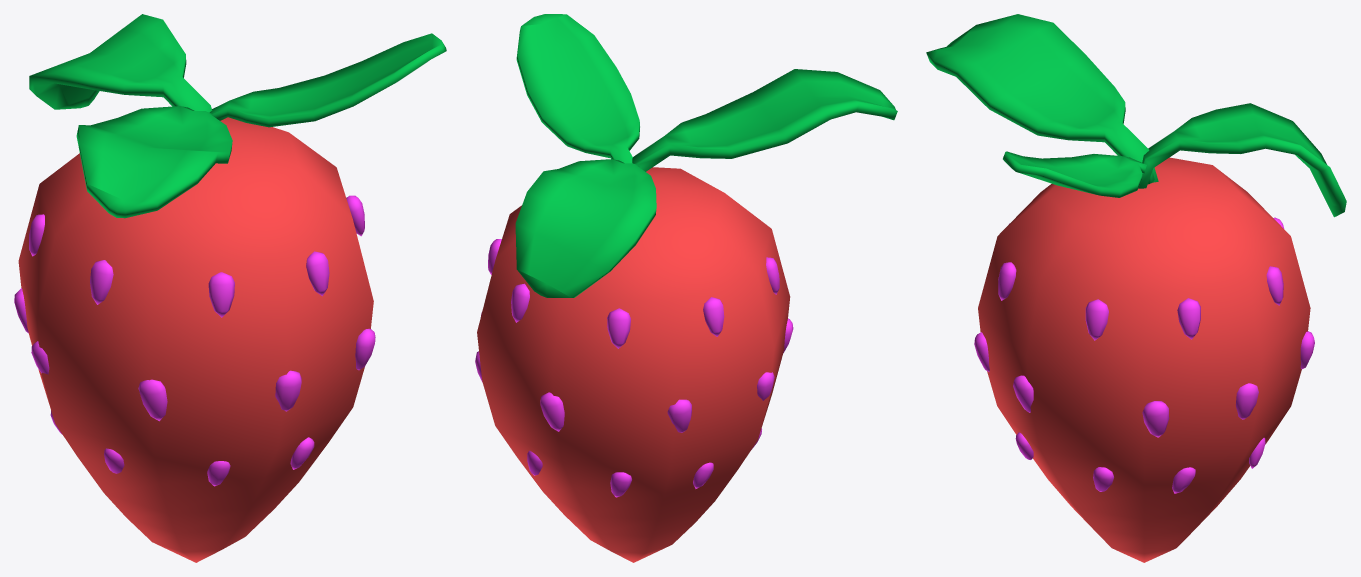
Rendered from Strawberry.fbx.
3 renders of one model, left to right at view 1: azimuth 30°, elevation 25°; view 2: azimuth 150°, elevation 25°; view 3: azimuth 270°, elevation 25°, orthographic. The views are drawn at different scales.
Visible parts, largest first — view 1: StrawBerry; view 2: StrawBerry; view 3: StrawBerry.
Boxes of the visible parts, x1,y1,x2,y2 form: StrawBerry: [14, 14, 446, 562]; StrawBerry: [475, 14, 897, 562]; StrawBerry: [926, 14, 1346, 562].
Bounding box in the file's own units: 1.08 × 1.41 × 1.13.
